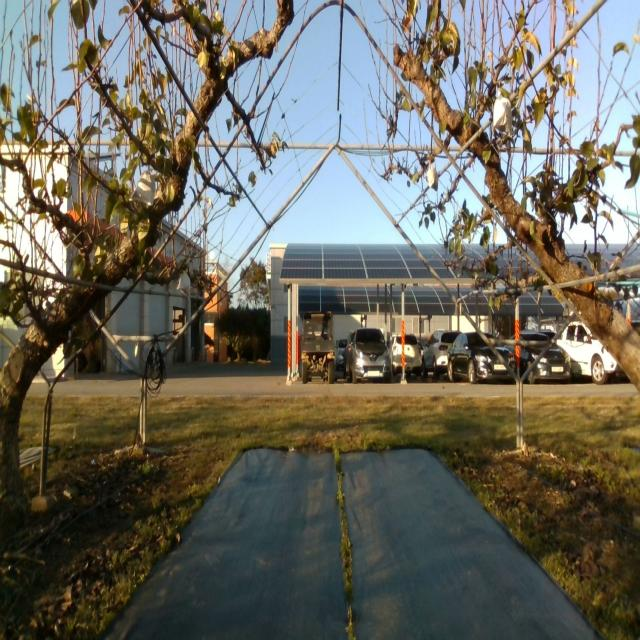pearbags: (131, 165, 156, 207), (493, 90, 512, 137), (177, 267, 191, 301), (427, 160, 439, 190)
